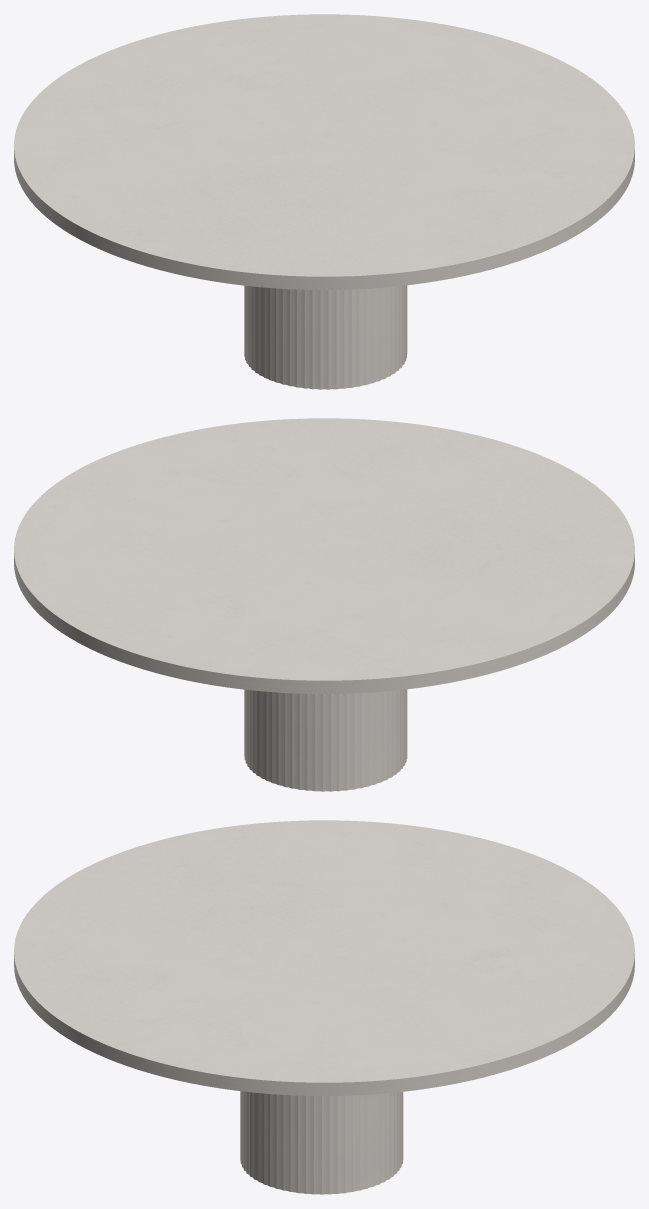
The model's file is pearlwhite_round_standard_ripple.glb.
3 renders of one model, top to bottom at view 1: azimuth 30°, elevation 25°; view 2: azimuth 150°, elevation 25°; view 3: azimuth 270°, elevation 25°, orthographic.
Visible parts, largest first — view 1: standard_round, ripple; view 2: standard_round, ripple; view 3: standard_round, ripple.
Part boxes in pixels (x1,y1,x2,y2): standard_round: [14, 14, 634, 289]; ripple: [244, 285, 407, 389]; standard_round: [14, 418, 634, 693]; ripple: [244, 689, 407, 791]; standard_round: [14, 820, 634, 1095]; ripple: [240, 1091, 403, 1194].
Size of the model in its own units: 6.75 by 2.5 by 6.75.
1 material, 1 textured.
